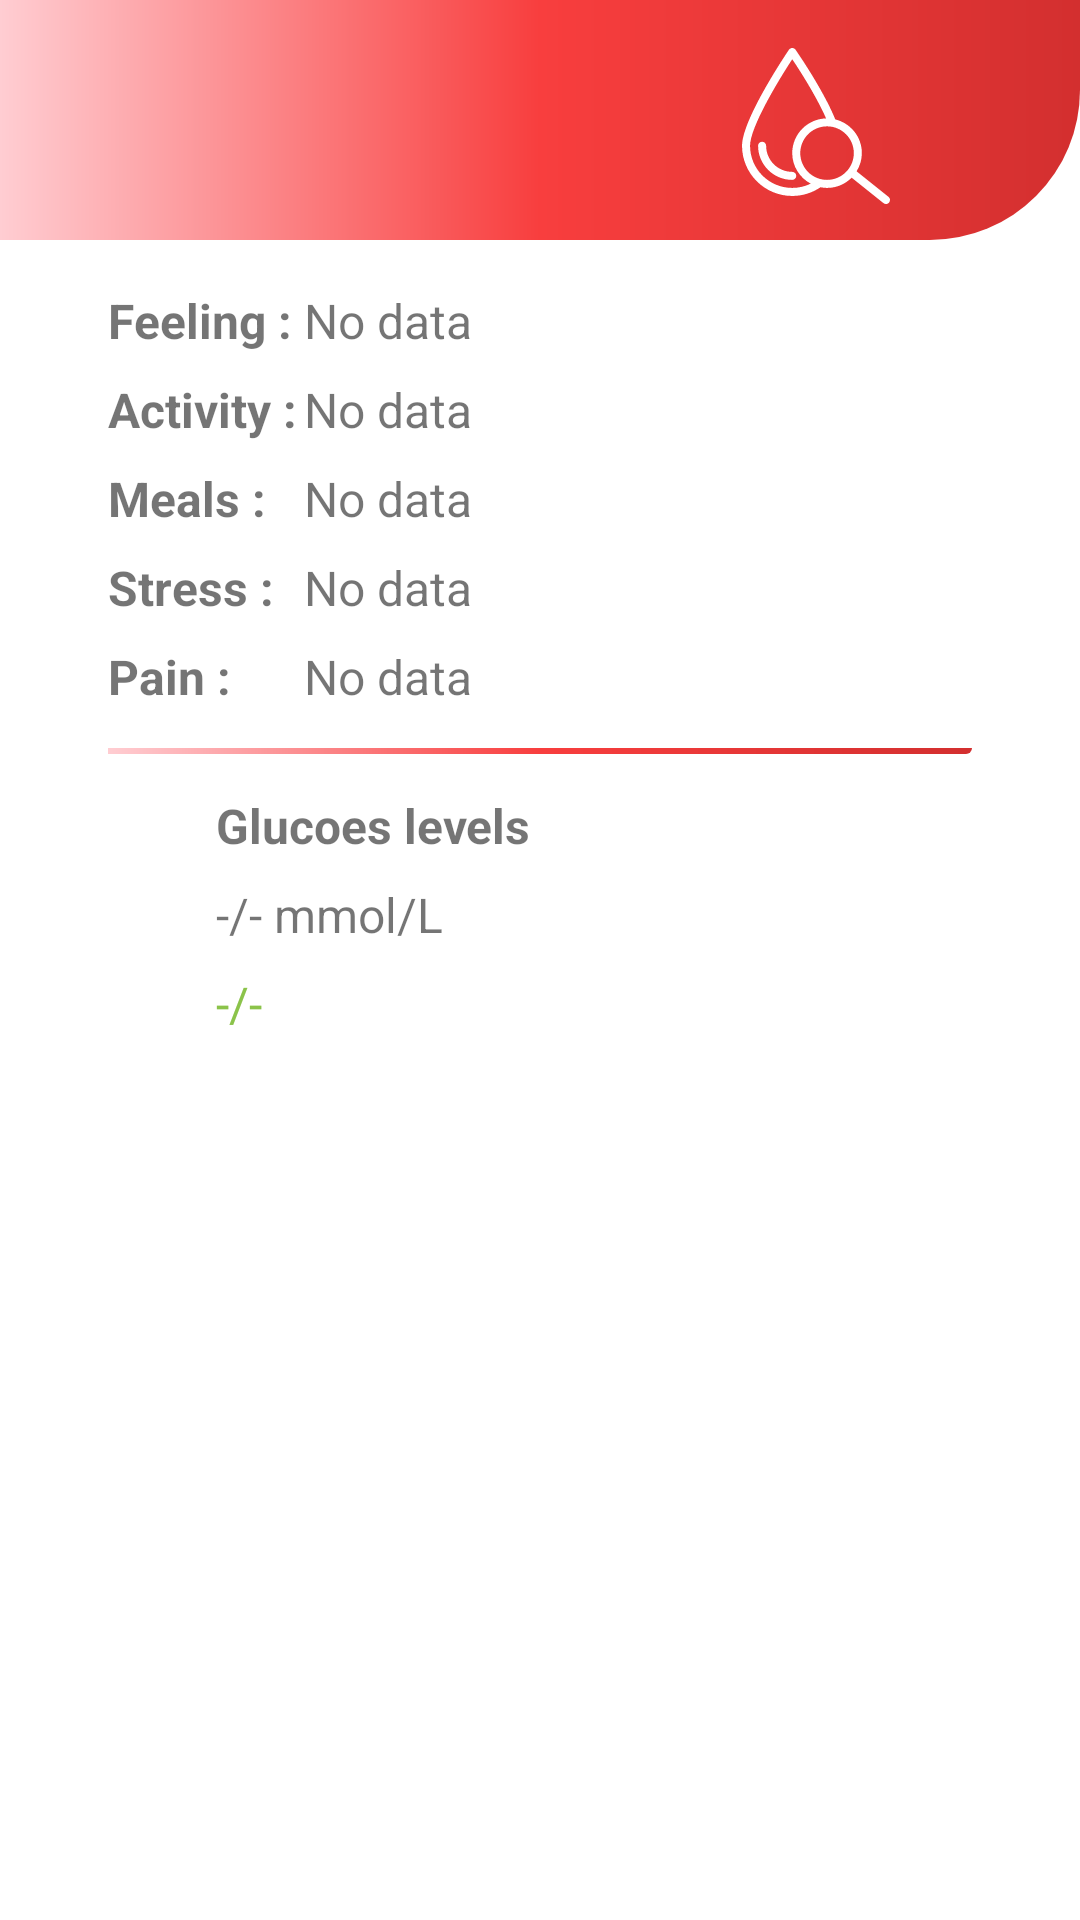

Locate icon controls on the screen. Image size 1080px×1920px, boxes as box=[x1, y1, x2, y2].
blood drop: box=[742, 48, 890, 204]
